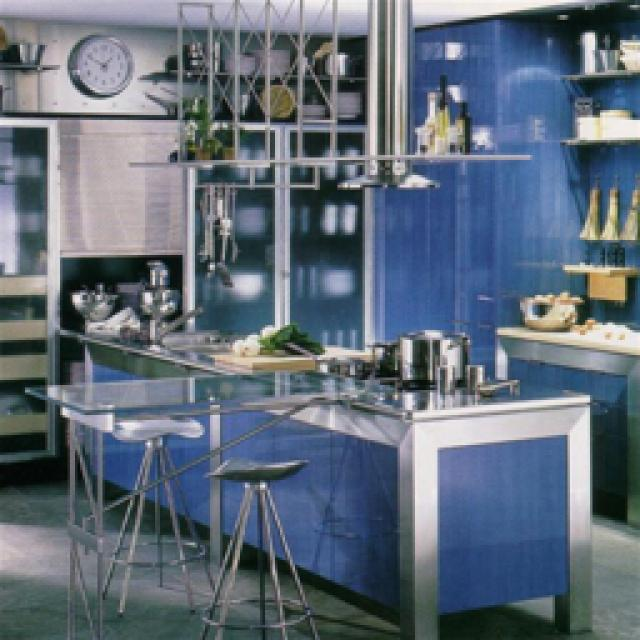bottle crop: (432, 70, 450, 148), (420, 90, 440, 145), (455, 100, 470, 148)
bowl -X: (68, 288, 118, 320), (2, 42, 40, 58)
bowls: (322, 88, 358, 115)
cabinet door: (492, 335, 635, 528), (0, 118, 55, 455)
clock crop: (65, 35, 128, 95)
counter: (498, 325, 638, 350)
counter bottom: (25, 325, 588, 415)
cup and saucer: (462, 358, 480, 388), (438, 362, 455, 390)
cutting board with vegetables: (208, 352, 312, 365)
hanging rack: (125, 2, 528, 190)
hanging utensils: (188, 175, 238, 288)
hood: (330, 0, 435, 188)
mixer: (130, 258, 175, 325)
plant -x: (162, 78, 240, 158)
plate food: (260, 82, 295, 115)
plates: (242, 45, 290, 70), (222, 52, 252, 70)
pot hanger: (398, 328, 462, 382), (178, 38, 218, 70), (310, 48, 362, 72)
refrigerator: (185, 120, 362, 345)
shelf crop: (562, 260, 632, 272)
shelves crop: (538, 25, 635, 242)
sink basin: (160, 335, 222, 355)
sink occluded: (142, 302, 198, 340)
stool crop: (100, 415, 212, 615), (198, 455, 318, 635)
teapot: (368, 338, 400, 375)
vegetables: (230, 322, 320, 360)
